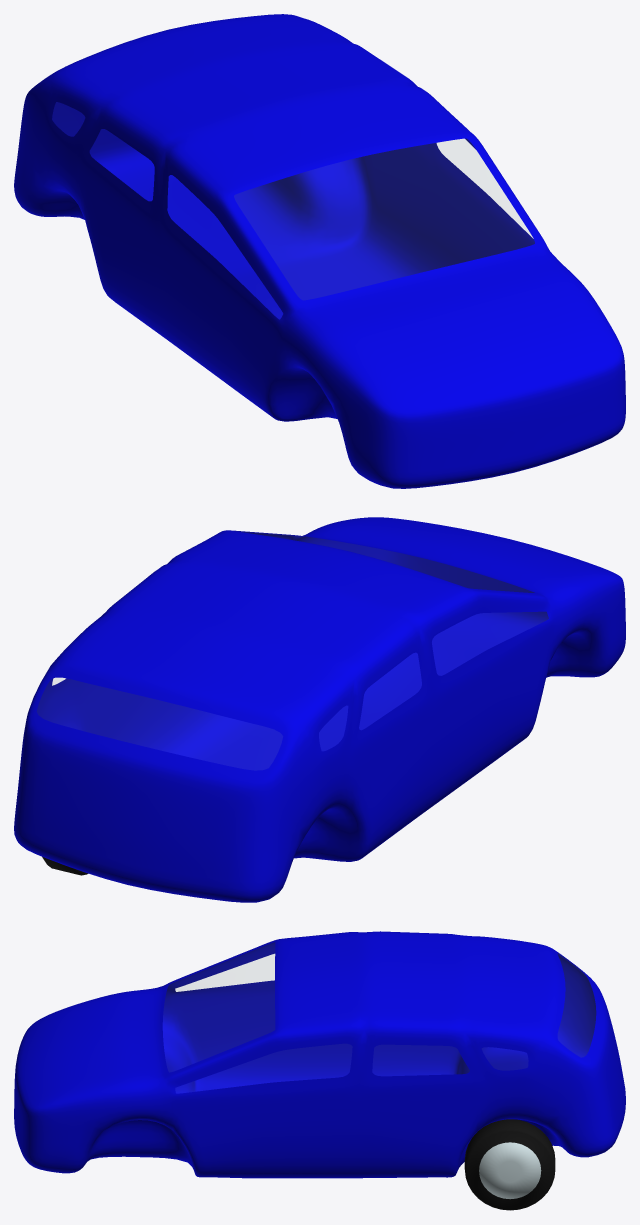
Rendered from WheelPH.dae.
3 renders of one model, top to bottom at view 1: azimuth 30°, elevation 25°; view 2: azimuth 150°, elevation 25°; view 3: azimuth 270°, elevation 25°, orthographic. The views are drawn at different scales.
Visible parts, largest first — view 1: CarPH; view 2: CarPH; view 3: CarPH, Wheel.004.
Part boxes in pixels (bbox=[...]): CarPH: bbox=[14, 14, 625, 488]; CarPH: bbox=[14, 517, 625, 902]; CarPH: bbox=[14, 931, 625, 1178]; Wheel.004: bbox=[464, 1119, 555, 1210].
Bounding box in the file's own units: 2.91 × 7.27 × 2.53.
